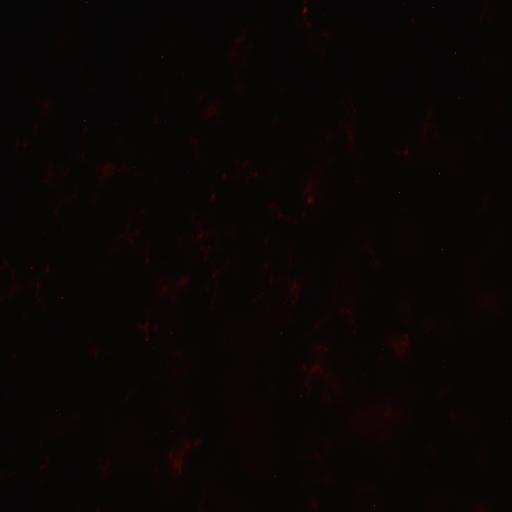microglia: (30, 143, 103, 211), (379, 105, 447, 176), (1, 256, 53, 316), (182, 204, 228, 270), (300, 343, 344, 408), (268, 177, 324, 228), (10, 103, 53, 163), (111, 207, 154, 266), (456, 280, 508, 328), (221, 26, 254, 90), (349, 404, 402, 443), (329, 94, 360, 160), (296, 1, 332, 54), (165, 436, 200, 480), (330, 286, 360, 336), (356, 236, 388, 282), (267, 276, 306, 309), (217, 155, 256, 184), (158, 274, 190, 305), (386, 329, 417, 360), (137, 312, 159, 342), (32, 96, 53, 120), (201, 100, 221, 121), (86, 340, 103, 360), (97, 456, 110, 478), (124, 386, 138, 403), (189, 436, 201, 448), (209, 193, 215, 203)
